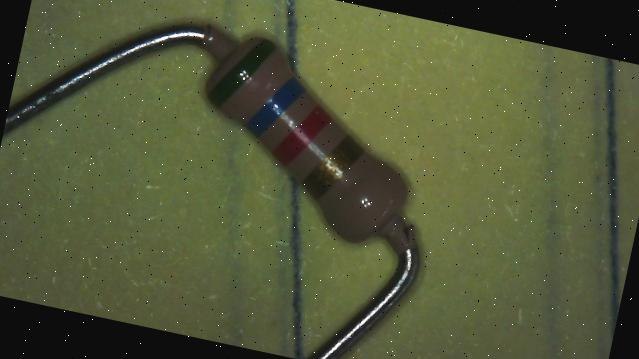blue: (244, 69, 307, 144)
gold: (300, 128, 365, 206)
green: (207, 30, 278, 116)
red: (270, 97, 334, 172)
resistor: (167, 0, 440, 275)
